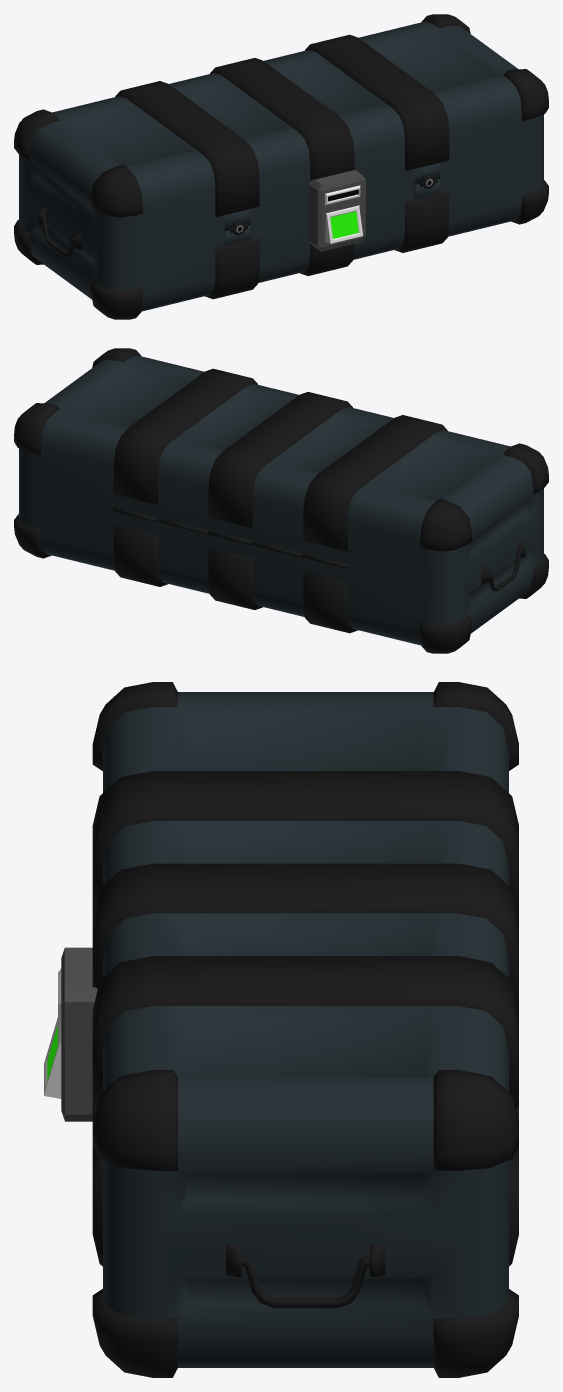
Rendered from WeaponCrate.glb.
The picture shows the model from 3 angles, top to bottom: view 1: azimuth 30°, elevation 25°; view 2: azimuth 150°, elevation 25°; view 3: azimuth 270°, elevation 25°; orthographic projection. The views are drawn at different scales.
Parts seen in each view (by area): view 1: weapon_box, KeyPad; view 2: weapon_box; view 3: weapon_box, KeyPad.
Boxes of the visible parts, x1,y1,x2,y2 form: weapon_box: [14, 14, 548, 319]; KeyPad: [308, 170, 365, 251]; weapon_box: [14, 348, 548, 653]; weapon_box: [92, 682, 518, 1377]; KeyPad: [44, 947, 97, 1121].
Size of the model in its own units: 5.92 by 1.84 by 2.69.
Materials: 5 (1 with a texture image).
